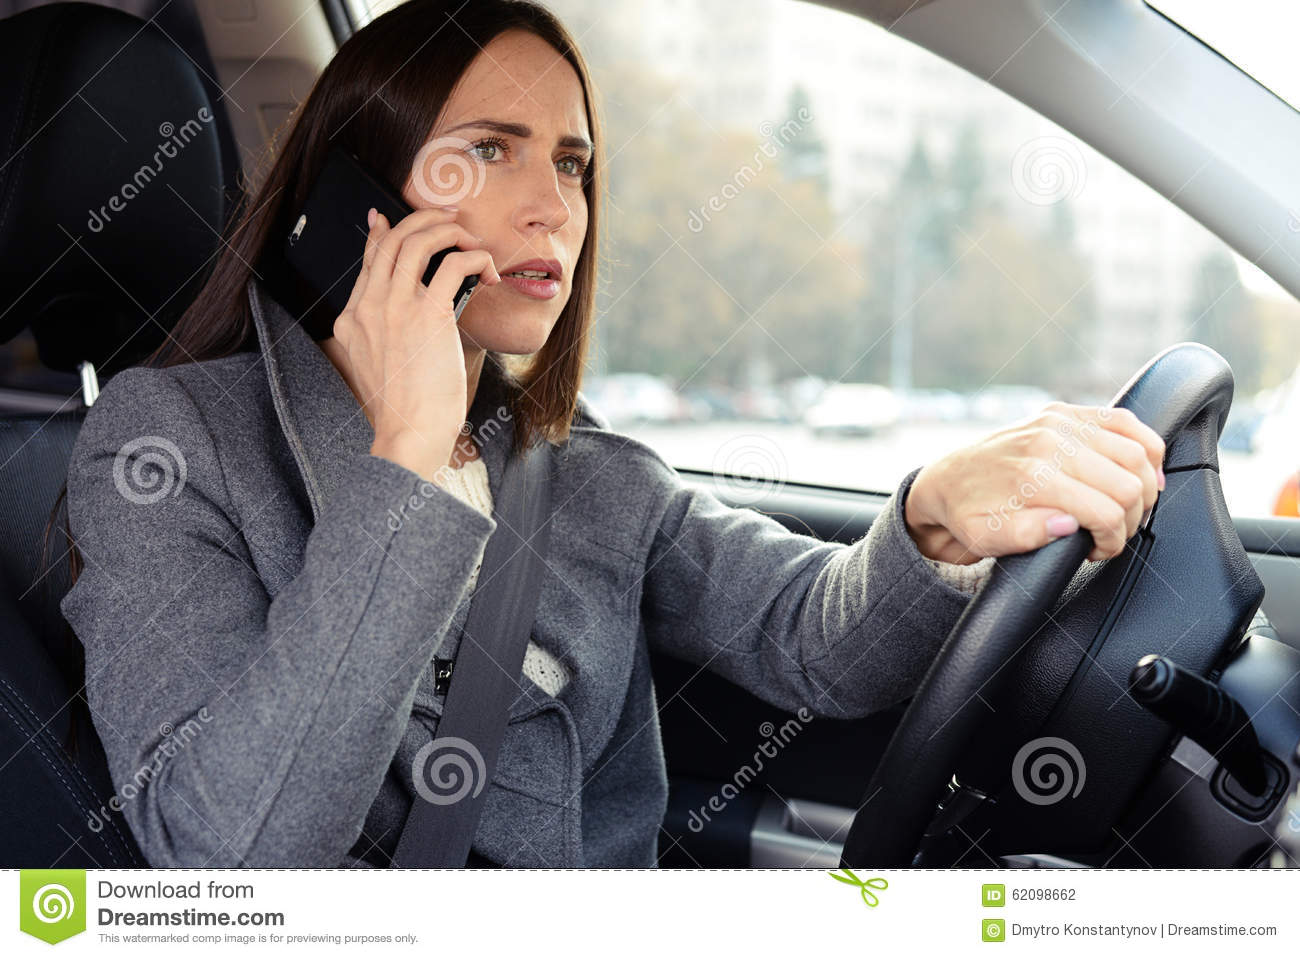phone: (286, 159, 486, 344)
talk: (284, 97, 589, 470)
